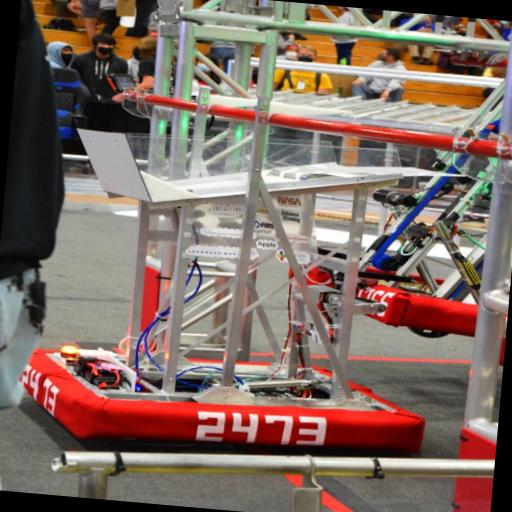robot: (22, 112, 448, 464)
